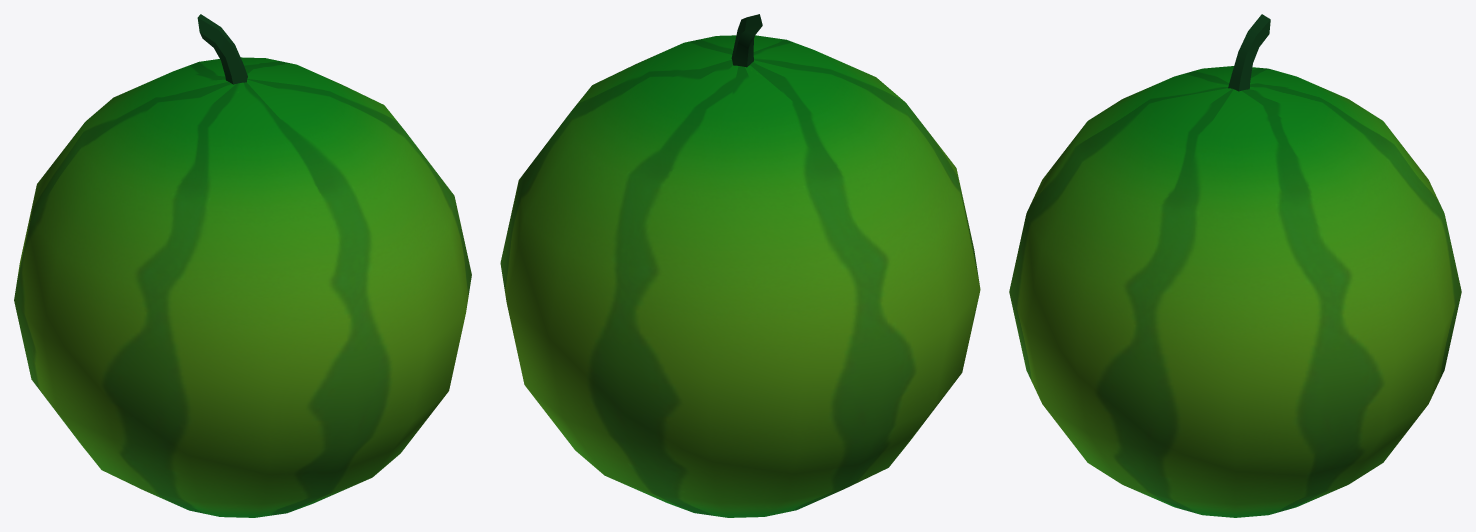
Rendered from watermelon.fbx.
3 views of the same model, side by side, from view 1: azimuth 30°, elevation 25°; view 2: azimuth 150°, elevation 25°; view 3: azimuth 270°, elevation 25° (orthographic). The views are drawn at different scales.
Parts seen in each view (by area): view 1: watermelon; view 2: watermelon; view 3: watermelon.
Boxes of the visible parts, left/top/right/bottom form: watermelon: left=14, top=14, right=471, bottom=517; watermelon: left=500, top=14, right=980, bottom=517; watermelon: left=1009, top=14, right=1461, bottom=517.
Bounding box in the file's own units: 1 × 1.14 × 1.
2 materials, 1 textured.
